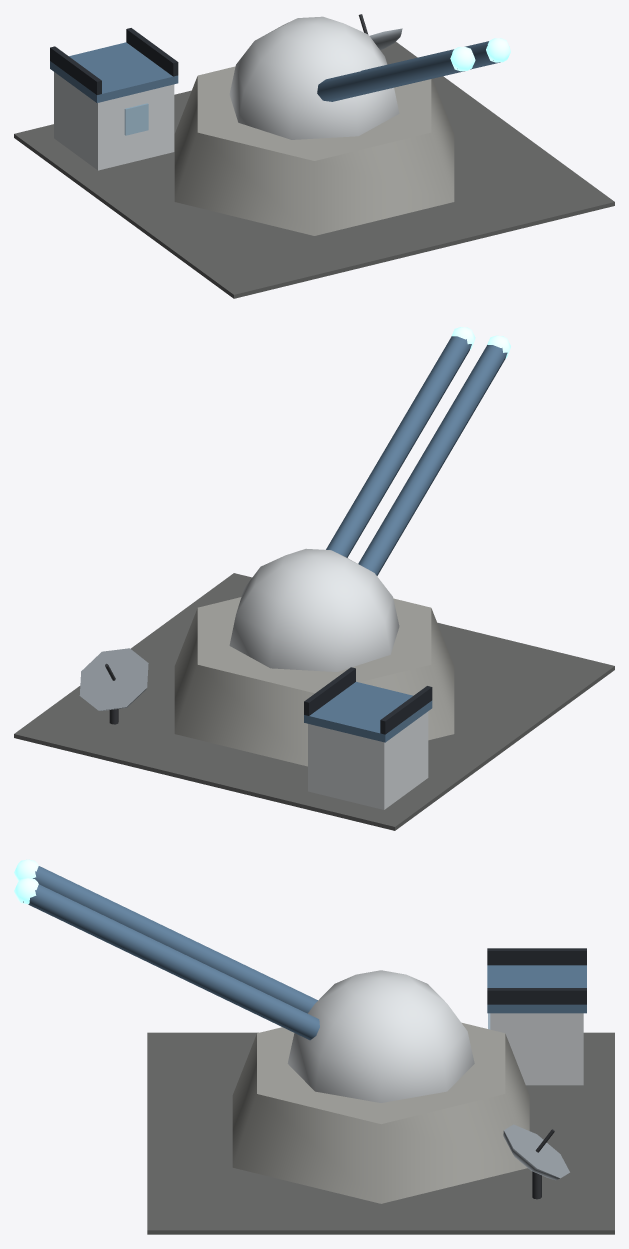
The model's file is bld_special_planetary_defense_a09_lod1.glb.
The picture shows the model from 3 angles, top to bottom: view 1: azimuth 30°, elevation 25°; view 2: azimuth 150°, elevation 25°; view 3: azimuth 270°, elevation 25°; orthographic projection. The views are drawn at different scales.
Parts seen in each view (by area): view 1: body, turret, antenna; view 2: body, turret, antenna; view 3: body, turret, antenna.
Part boxes in pixels (left/top/right/bottom): body: left=14, top=28, right=614, bottom=298; turret: left=229, top=16, right=510, bottom=139; antenna: left=358, top=14, right=402, bottom=49; body: left=14, top=573, right=614, bottom=830; turret: left=229, top=327, right=510, bottom=671; antenna: left=79, top=648, right=148, bottom=724; body: left=147, top=948, right=614, bottom=1234; turret: left=14, top=859, right=474, bottom=1102; antenna: left=503, top=1124, right=569, bottom=1199.
Size of the model in its own units: 15 by 9.43 by 19.28.
